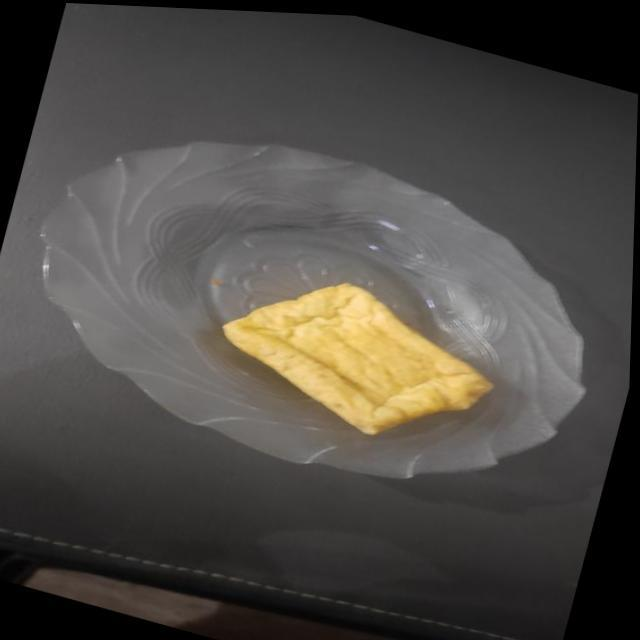tahu_goreng: (222, 284, 492, 434)
